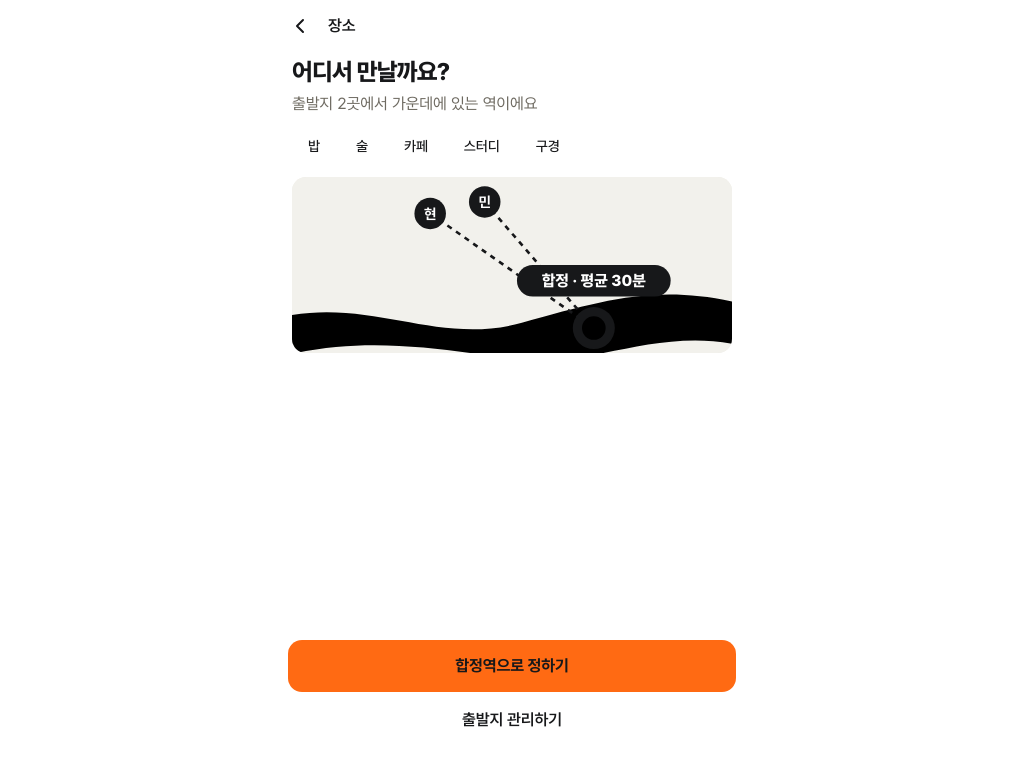
Scenario: 출발지를 남기지 않은 예상 인원이 있으면 확정 시트가 경고한다
The image size is (1024, 768).
Step 1. Click the button "합정역으로 정하기" → (512, 666), box [288, 640, 736, 692]
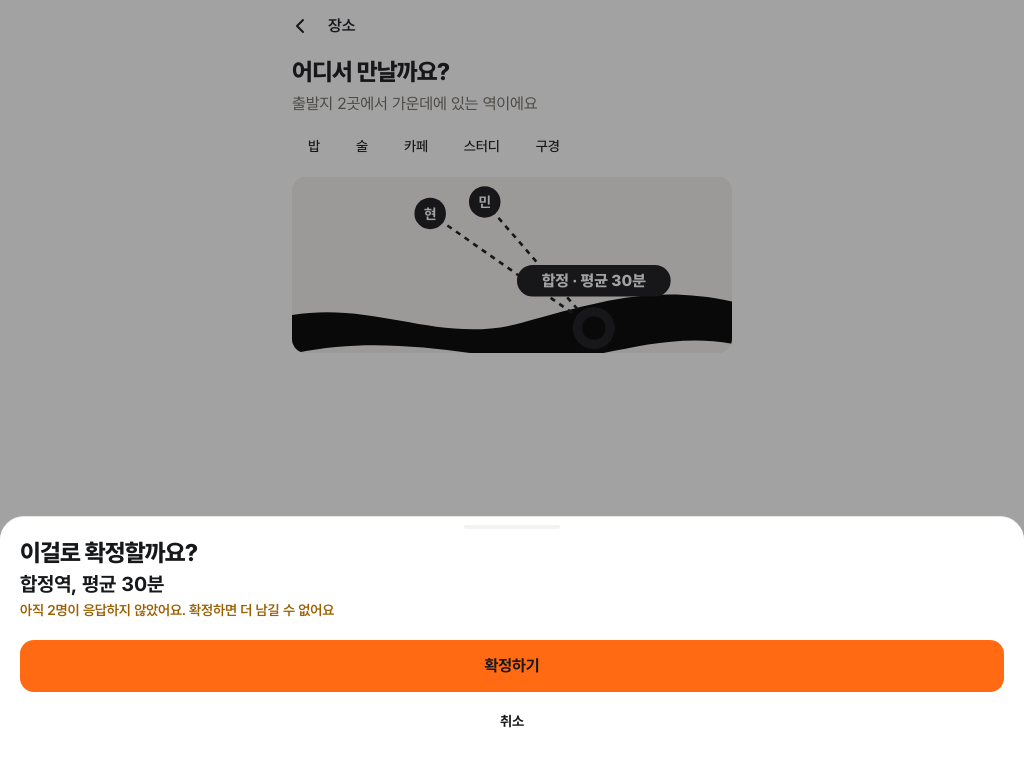
Result: the text "아직 2명이 응답하지 않았어요. 확정하면 더 남길 수 없어요" is shown at [20, 600, 334, 619]
